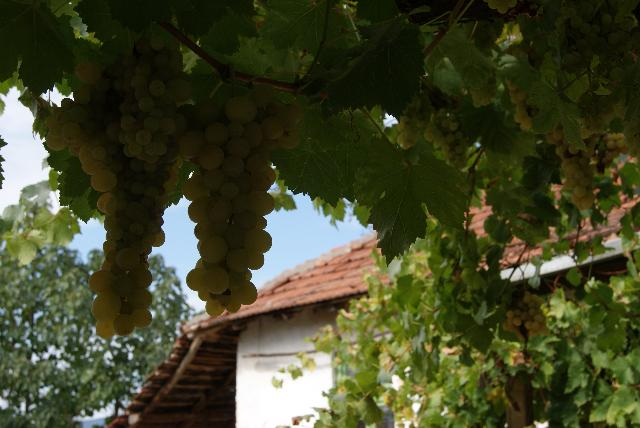grapes: (45, 62, 176, 339), (179, 84, 302, 316), (114, 38, 191, 174), (546, 124, 596, 210), (424, 109, 469, 170), (502, 291, 549, 340)
